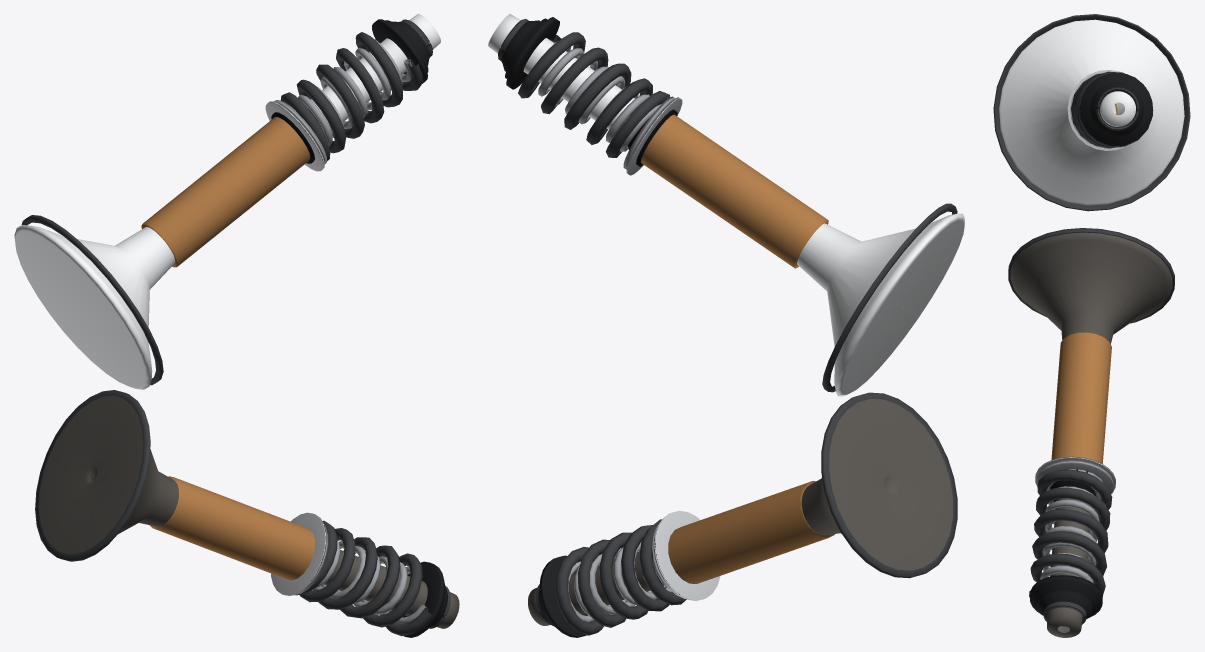
Rendered from valve-set-6.glb.
3 views of the same model, side by side, from view 1: azimuth 30°, elevation 25°; view 2: azimuth 150°, elevation 25°; view 3: azimuth 270°, elevation 25° (orthographic). The views are drawn at different scales.
Parts seen in each view (by area): view 1: valve-set-6:bronze, valve-set-6:darkSteel, valve-set-6:chrome, valve-set-6:heatSteel, valve-set-6:steel, valve-set-6:satinBlack, valve-set-6:polishedSteel; view 2: valve-set-6:bronze, valve-set-6:heatSteel, valve-set-6:darkSteel, valve-set-6:chrome, valve-set-6:steel, valve-set-6:satinBlack, valve-set-6:polishedSteel; view 3: valve-set-6:chrome, valve-set-6:heatSteel, valve-set-6:darkSteel, valve-set-6:bronze, valve-set-6:satinBlack, valve-set-6:steel, valve-set-6:polishedSteel, valve-set-6:rubber.
Part boxes in pixels (x1=…): valve-set-6:bronze: x1=141, y1=117, x2=314, y2=580; valve-set-6:darkSteel: x1=21, y1=19, x2=450, y2=636; valve-set-6:chrome: x1=14, y1=14, x2=440, y2=389; valve-set-6:heatSteel: x1=39, y1=395, x2=459, y2=628; valve-set-6:steel: x1=274, y1=39, x2=426, y2=623; valve-set-6:satinBlack: x1=372, y1=19, x2=447, y2=637; valve-set-6:polishedSteel: x1=265, y1=101, x2=326, y2=595; valve-set-6:bronze: x1=641, y1=114, x2=834, y2=583; valve-set-6:heatSteel: x1=528, y1=399, x2=952, y2=625; valve-set-6:darkSteel: x1=498, y1=19, x2=957, y2=635; valve-set-6:chrome: x1=488, y1=14, x2=964, y2=396; valve-set-6:steel: x1=533, y1=40, x2=685, y2=622; valve-set-6:satinBlack: x1=501, y1=17, x2=587, y2=637; valve-set-6:polishedSteel: x1=626, y1=97, x2=720, y2=600; valve-set-6:chrome: x1=999, y1=19, x2=1184, y2=205; valve-set-6:heatSteel: x1=1010, y1=232, x2=1172, y2=637; valve-set-6:darkSteel: x1=993, y1=14, x2=1190, y2=624; valve-set-6:bronze: x1=1051, y1=103, x2=1117, y2=463; valve-set-6:satinBlack: x1=1030, y1=72, x2=1153, y2=626; valve-set-6:steel: x1=1037, y1=72, x2=1116, y2=583; valve-set-6:polishedSteel: x1=1035, y1=70, x2=1129, y2=493; valve-set-6:rubber: x1=1050, y1=469, x2=1096, y2=507.
Size of the model in its own units: 111 by 154 by 49.48.
